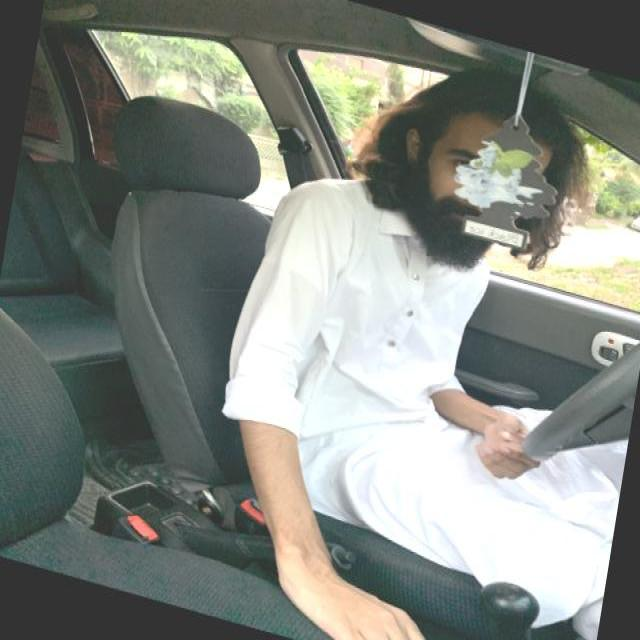no-seatbelt: (302, 200, 544, 525)
